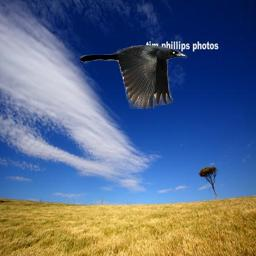Crow: (79, 44, 188, 109)
